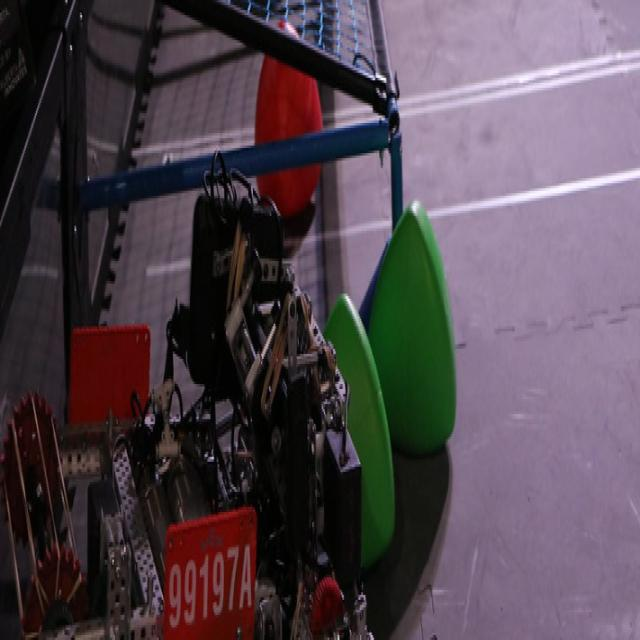License-Plates: (167, 527, 256, 640), (73, 330, 149, 417)
